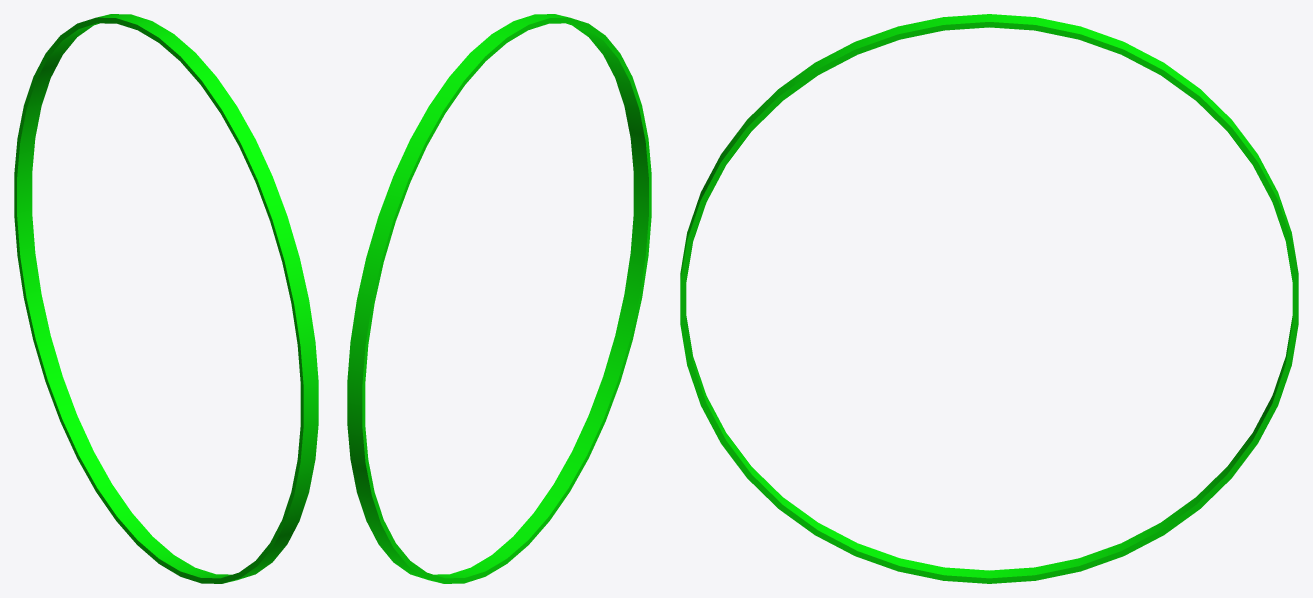
Rendered from ring.obj.
The picture shows the model from 3 angles, left to right: view 1: azimuth 30°, elevation 25°; view 2: azimuth 150°, elevation 25°; view 3: azimuth 270°, elevation 25°; orthographic projection. The views are drawn at different scales.
Parts seen in each view (by area): view 1: Body1; view 2: Body1; view 3: Body1.
Part boxes in pixels (x1=…): Body1: x1=14, y1=14, x2=318, y2=583; Body1: x1=347, y1=14, x2=651, y2=583; Body1: x1=680, y1=14, x2=1298, y2=583.
Bounding box in the file's own units: 0.03 × 1 × 0.9972.
